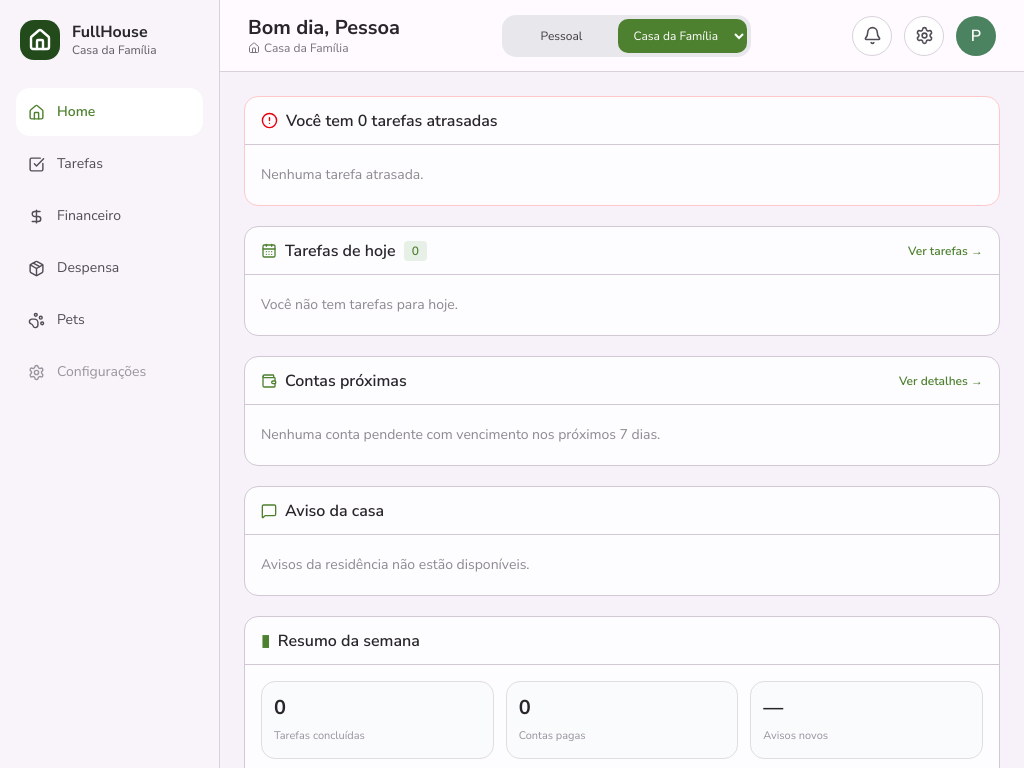
Test case: HomePage › switches to another authorized residence and updates its dynamic name
This screenshot has width=1024, height=768.
Select "Casa da Praia" in the dropdown named "Residência" at coordinates (682, 36), box [618,18,746,52]
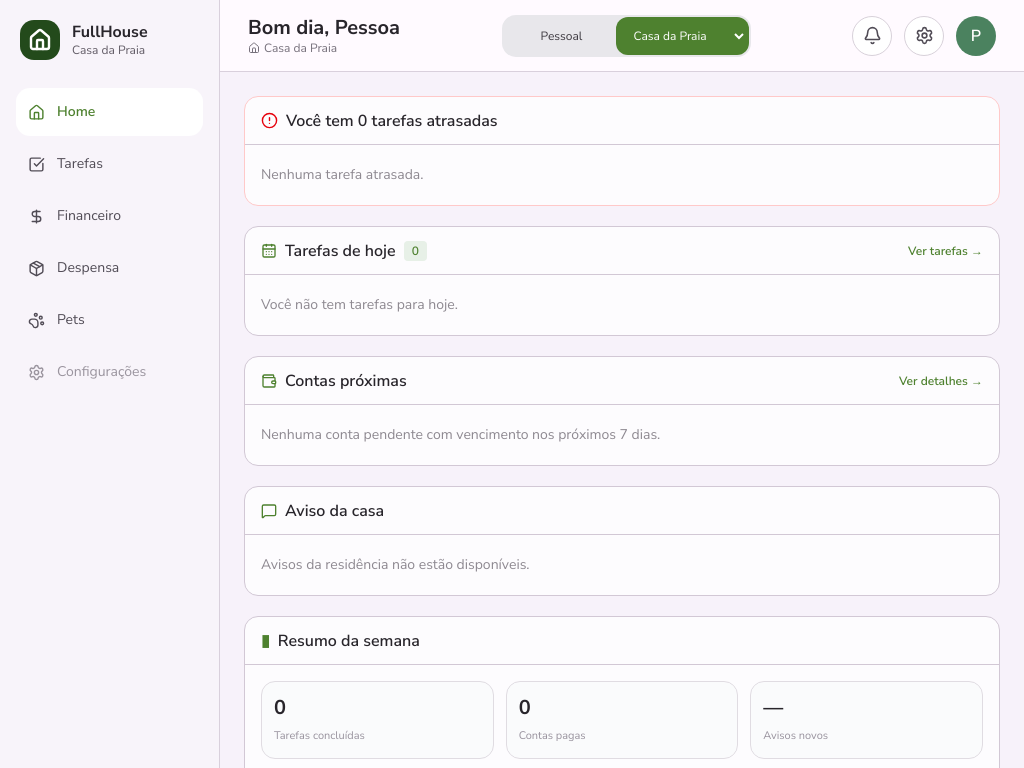
Check: the text "Casa da Praia" is shown, box [248,40,337,56]
